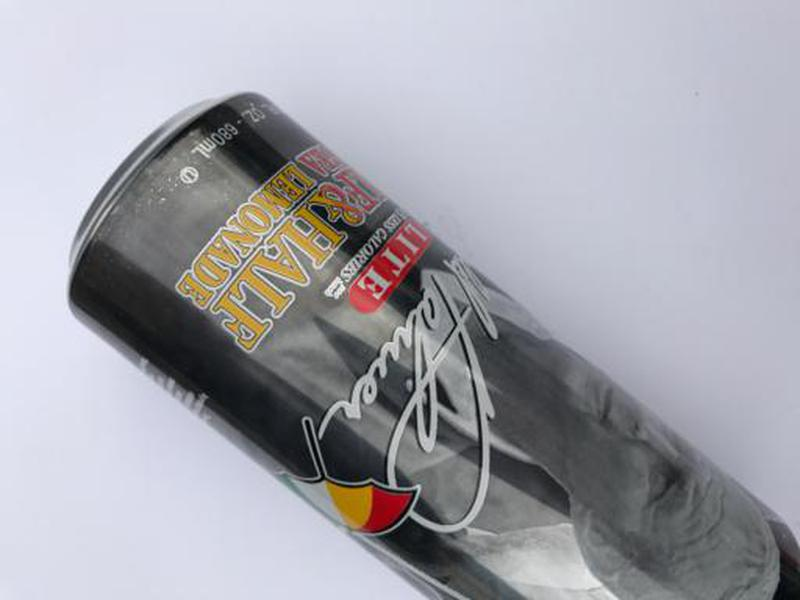can: (64, 87, 800, 600)
